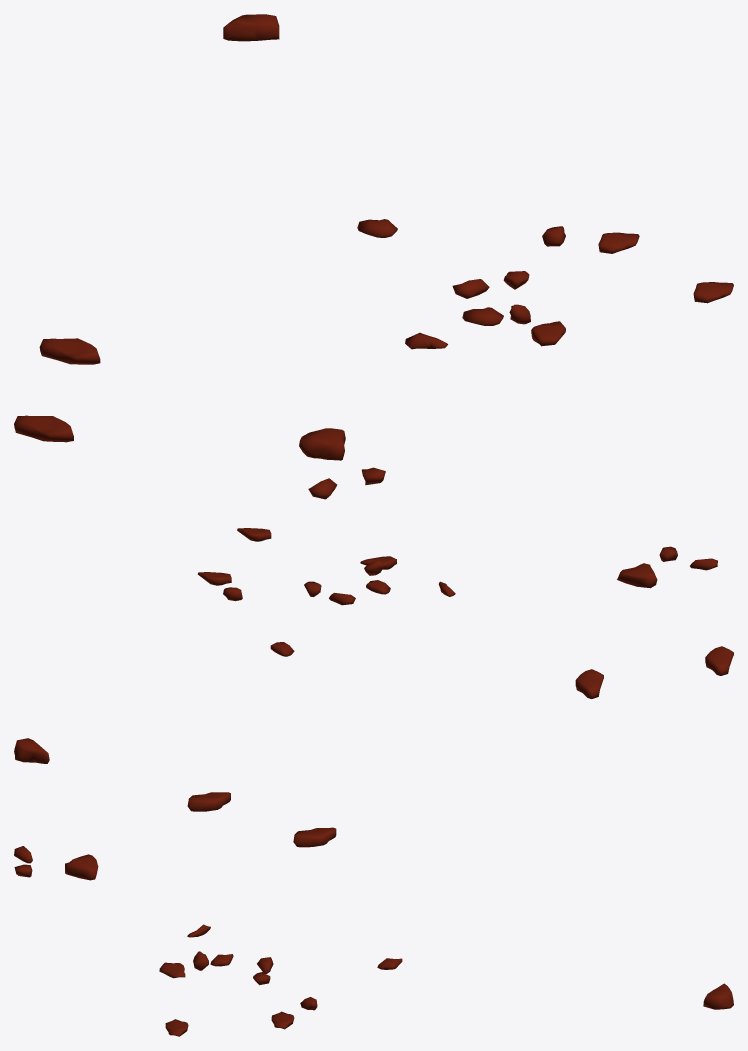
Rendered from Debris_Toit.fbx.
The picture shows the model from 3 angles, top to bottom: view 1: azimuth 30°, elevation 25°; view 2: azimuth 150°, elevation 25°; view 3: azimuth 270°, elevation 25°; orthographic projection. The views are drawn at different scales.
Visible parts, largest first — view 1: Debris_Toit; view 2: Debris_Toit; view 3: Debris_Toit.
Part boxes in pixels (x1,y1,x2,y2): Debris_Toit: (14,14,733,499); Debris_Toit: (14,528,733,763); Debris_Toit: (14,792,733,1036).
Size of the model in its own units: 870 by 29.26 by 1102.
